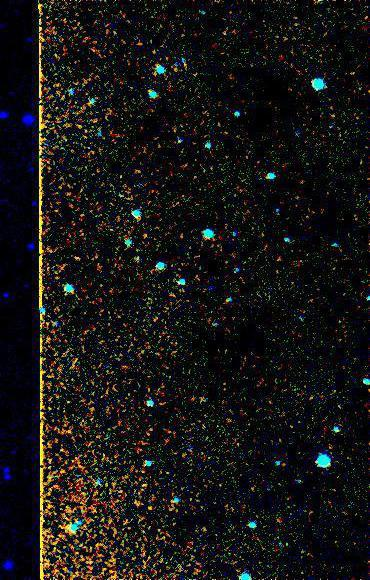star: (133, 491, 163, 521)
